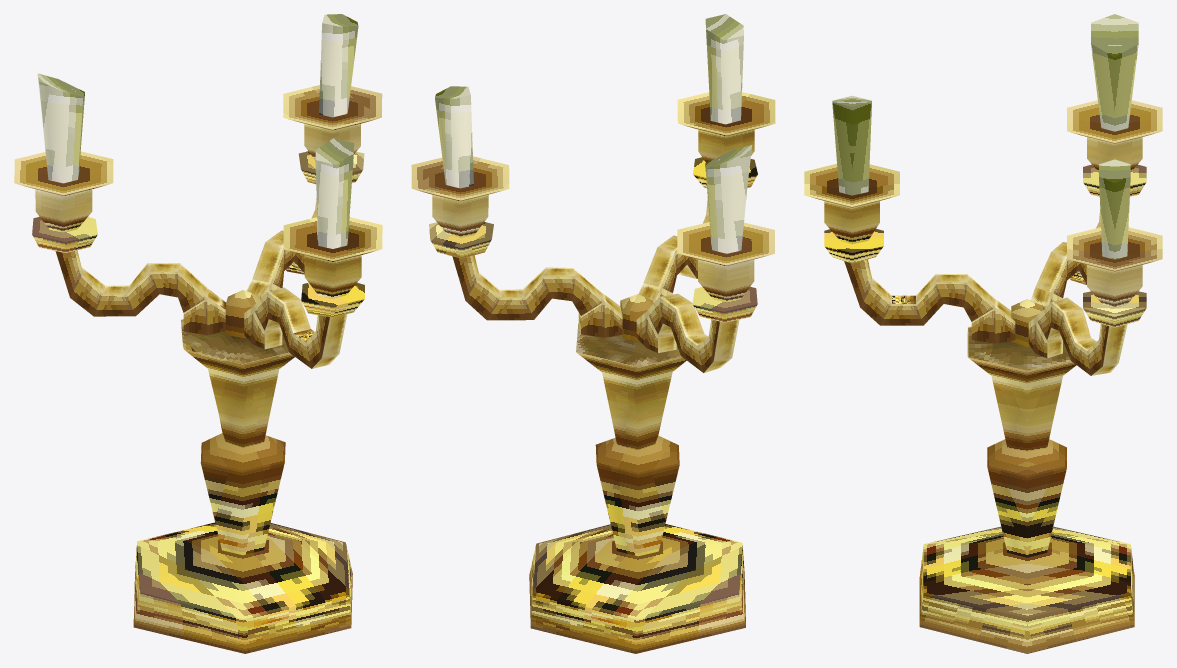
Rendered from rou36-2.glb.
3 views of the same model, side by side, from view 1: azimuth 30°, elevation 25°; view 2: azimuth 150°, elevation 25°; view 3: azimuth 270°, elevation 25° (orthographic). The views are drawn at different scales.
Parts seen in each view (by area): view 1: rou36; view 2: rou36; view 3: rou36.
Boxes of the visible parts, box(x1,y1,x2,y2) form: rou36: box(14, 14, 382, 653); rou36: box(411, 14, 775, 653); rou36: box(804, 14, 1162, 653).
Bounding box in the file's own units: 104 × 142 × 90.
Materials: 3 (3 with a texture image).
